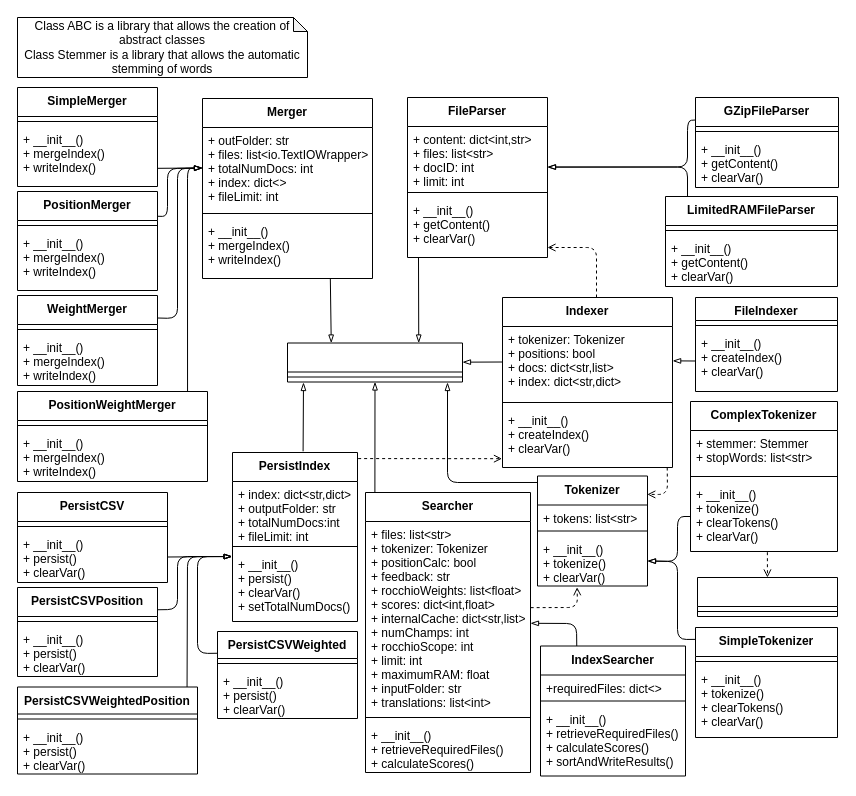
This 856x796 diagram has some shape labels left out. Here are the shapes that lost their labels. From the top down, the centre of each, then its label:
pixel 374 362: abc.ABC
pixel 767 596: Stemmer
